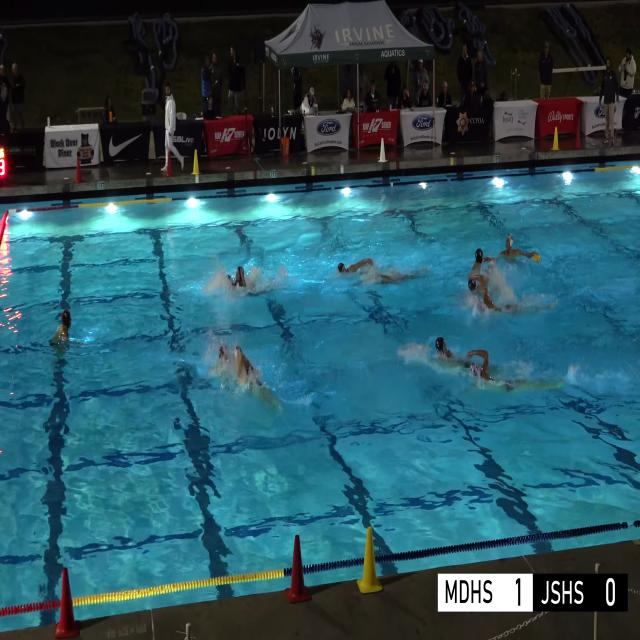ball: (533, 253, 540, 262)
